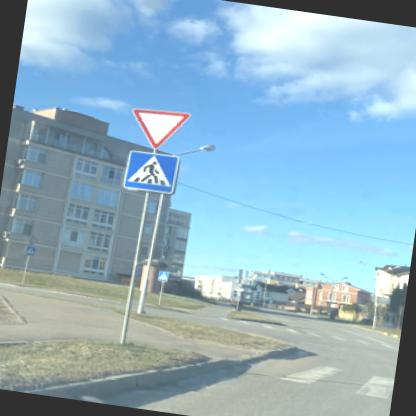crosswalk: (124, 147, 183, 194), (25, 244, 38, 256), (158, 270, 170, 282)
